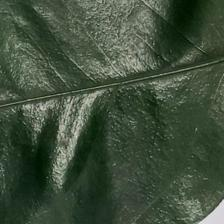healthy: (0, 3, 206, 224)
